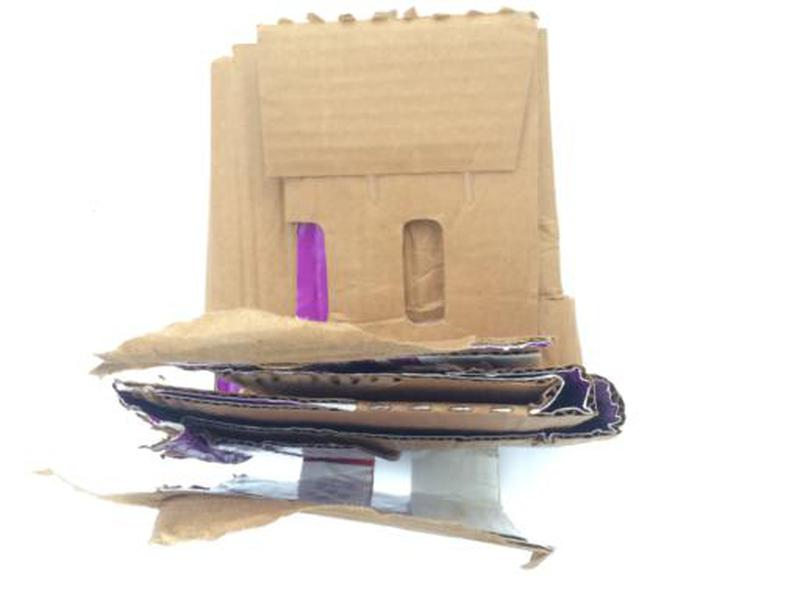cardboard: (29, 297, 634, 575), (197, 6, 588, 364)
